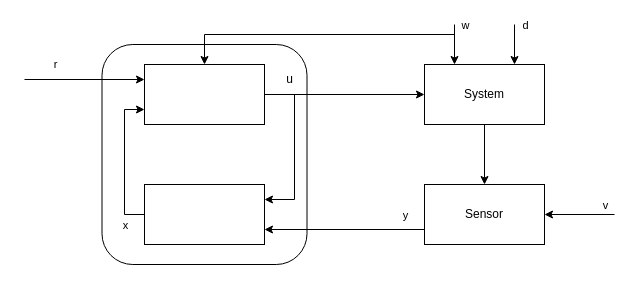
Image size: 640x282. Some labels were removed from this diagram. The centre of each missing label's shape, as x and y in pixels:
Regulator: point 204,94
State Estimator: point 204,214
